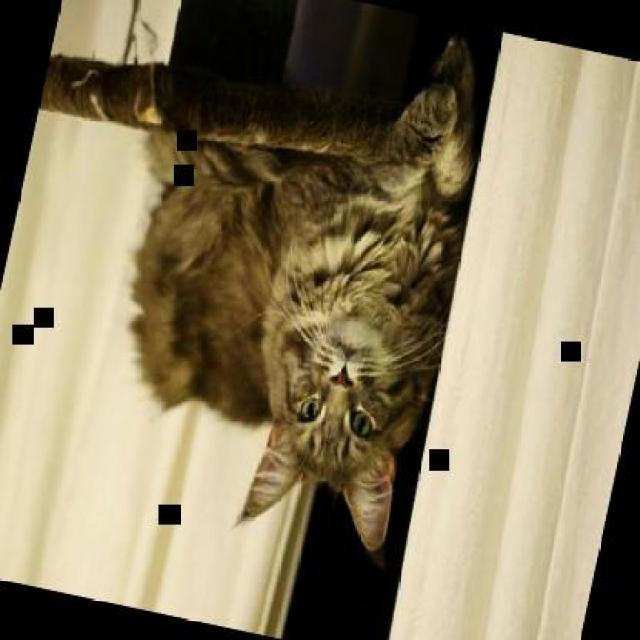cat: (85, 0, 508, 557)
